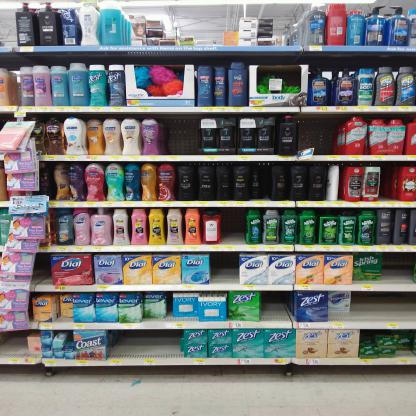Void: (114, 331, 182, 355), (294, 114, 335, 153), (356, 293, 415, 316), (164, 114, 198, 151), (214, 254, 239, 285), (263, 295, 297, 317), (221, 212, 247, 240), (198, 12, 222, 42), (162, 14, 193, 35), (385, 256, 413, 279), (2, 333, 29, 355), (36, 254, 52, 281)
